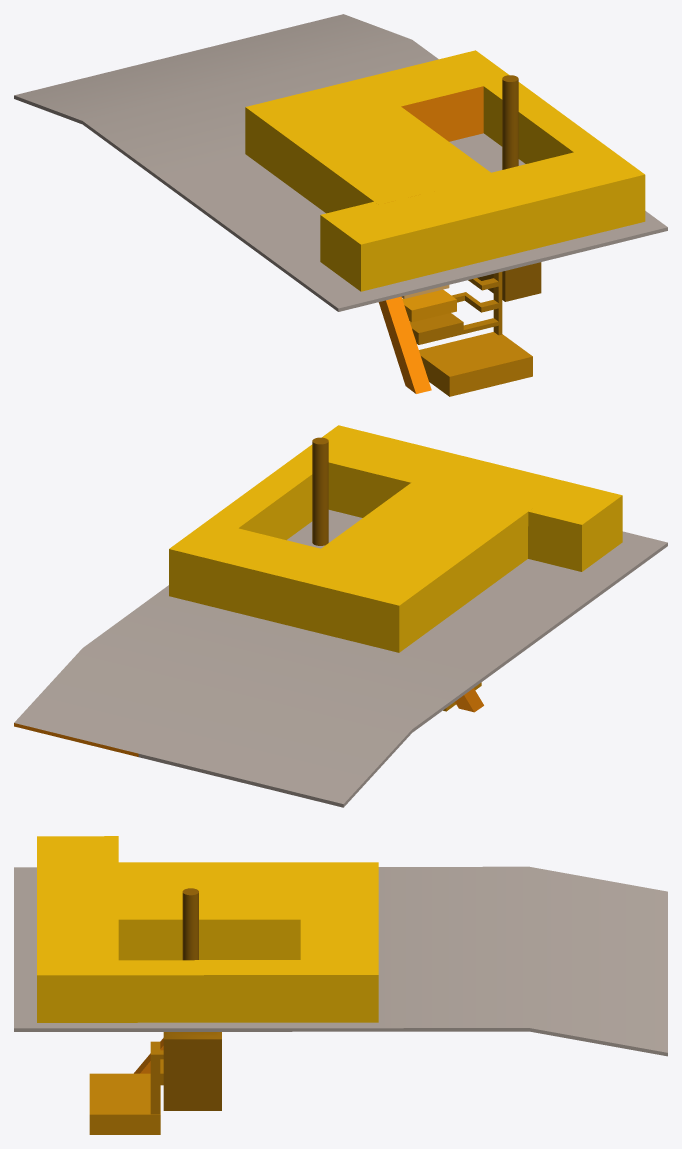
File: bunker.glb
3 renders of one model, top to bottom at view 1: azimuth 30°, elevation 25°; view 2: azimuth 150°, elevation 25°; view 3: azimuth 270°, elevation 25°, orthographic.
Visible parts, largest first — view 1: Instalacion, Viviendas, Ingenieria, Antena, transmisor, Recursos; view 2: Instalacion, Antena; view 3: Instalacion, transmisor, Viviendas, Antena, Ingenieria.
Boxes of the visible parts, x1,y1,x2,y2 form: Instalacion: [14, 14, 667, 393]; Viviendas: [419, 332, 532, 396]; Ingenieria: [409, 272, 502, 344]; Antena: [502, 75, 518, 169]; transmisor: [477, 262, 541, 301]; Recursos: [402, 289, 456, 322]; Instalacion: [14, 425, 667, 807]; Antena: [312, 437, 328, 545]; Instalacion: [14, 836, 667, 1073]; transmisor: [163, 1032, 221, 1110]; Viviendas: [89, 1073, 160, 1134]; Antena: [182, 888, 198, 960]; Ingenieria: [150, 1041, 163, 1114].
Size of the model in its own units: 23.32 by 17.48 by 39.75.
